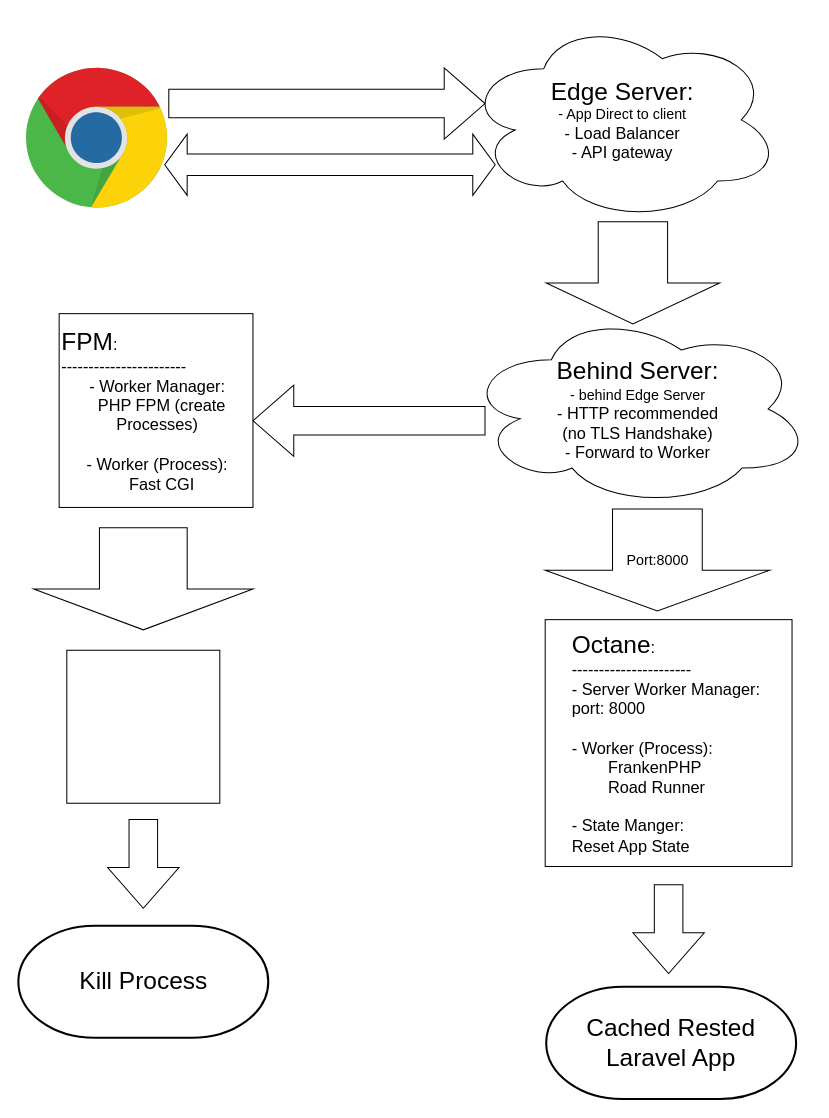
This 829x1118 diagram has some shape labels left out. The shapes that lost their labels are listed below. From the top down, each one's box as (x1, y1, x2, y2) in pixels, then its label:
(168, 67, 485, 139): HTTPS :443
(164, 133, 495, 195): TLS handshake
(545, 221, 720, 324): HTTP :80
(66, 649, 220, 803): Laravel App
